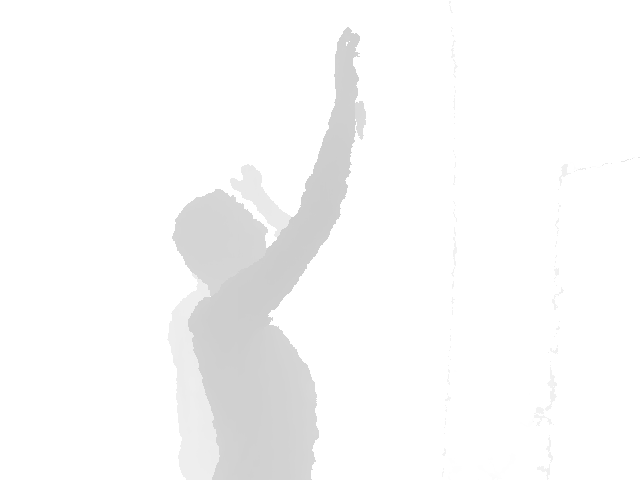hand: (334, 27, 361, 120), (230, 163, 267, 204)
head: (171, 189, 268, 292)
person: (172, 27, 362, 480), (168, 163, 294, 480)
